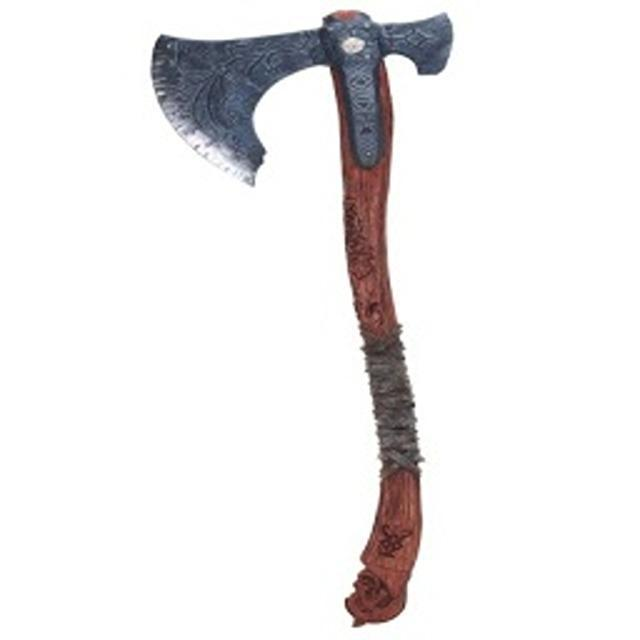ax: (144, 7, 482, 629)
